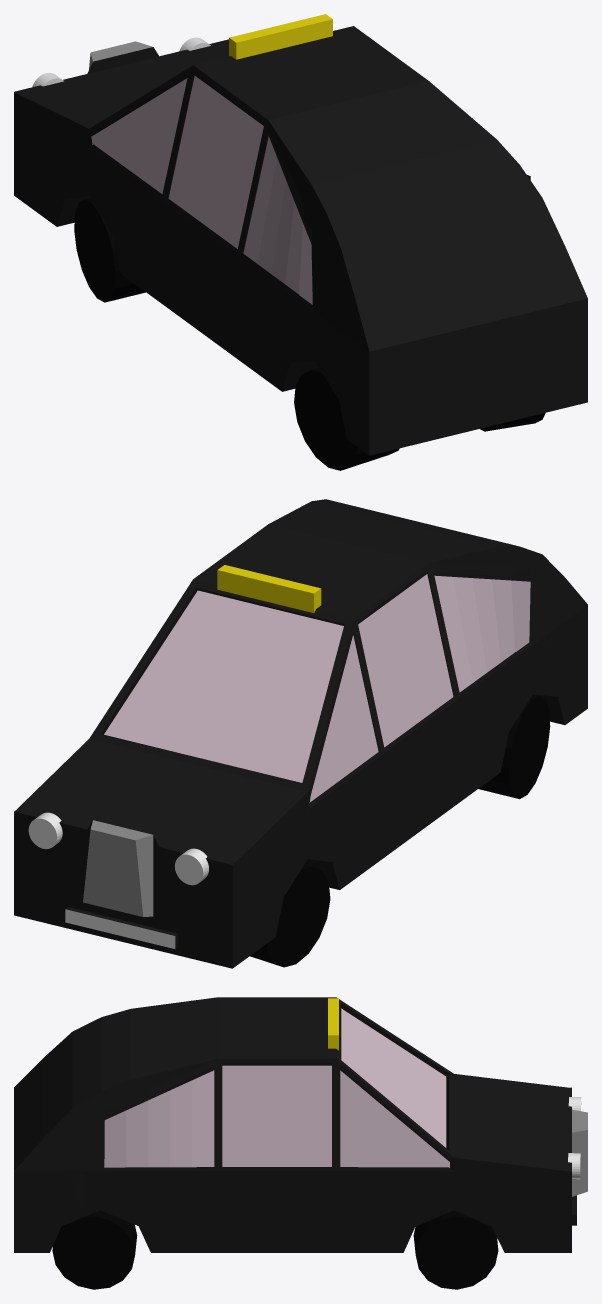
File: Taxiauto.fbx
3 views of the same model, one above another, from view 1: azimuth 30°, elevation 25°; view 2: azimuth 150°, elevation 25°; view 3: azimuth 270°, elevation 25° (orthographic). The views are drawn at different scales.
Visible parts, largest first — view 1: car, Cylinder, Cube; view 2: car, Cylinder, Cube, Cylinder.001; view 3: car, Cylinder, Cube, Cylinder.001.
Boxes of the visible parts, bbox=[...] form: car: bbox=[14, 26, 587, 455]; Cylinder: bbox=[74, 198, 545, 470]; Cube: bbox=[229, 14, 332, 59]; car: bbox=[14, 499, 587, 968]; Cylinder: bbox=[250, 694, 550, 967]; Cube: bbox=[217, 565, 321, 612]; Cylinder.001: bbox=[28, 812, 208, 885]; car: bbox=[14, 997, 587, 1252]; Cylinder: bbox=[52, 1210, 498, 1289]; Cube: bbox=[328, 998, 338, 1050]; Cylinder.001: bbox=[568, 1097, 581, 1179].
Size of the model in its own units: 236 by 310 by 682.
